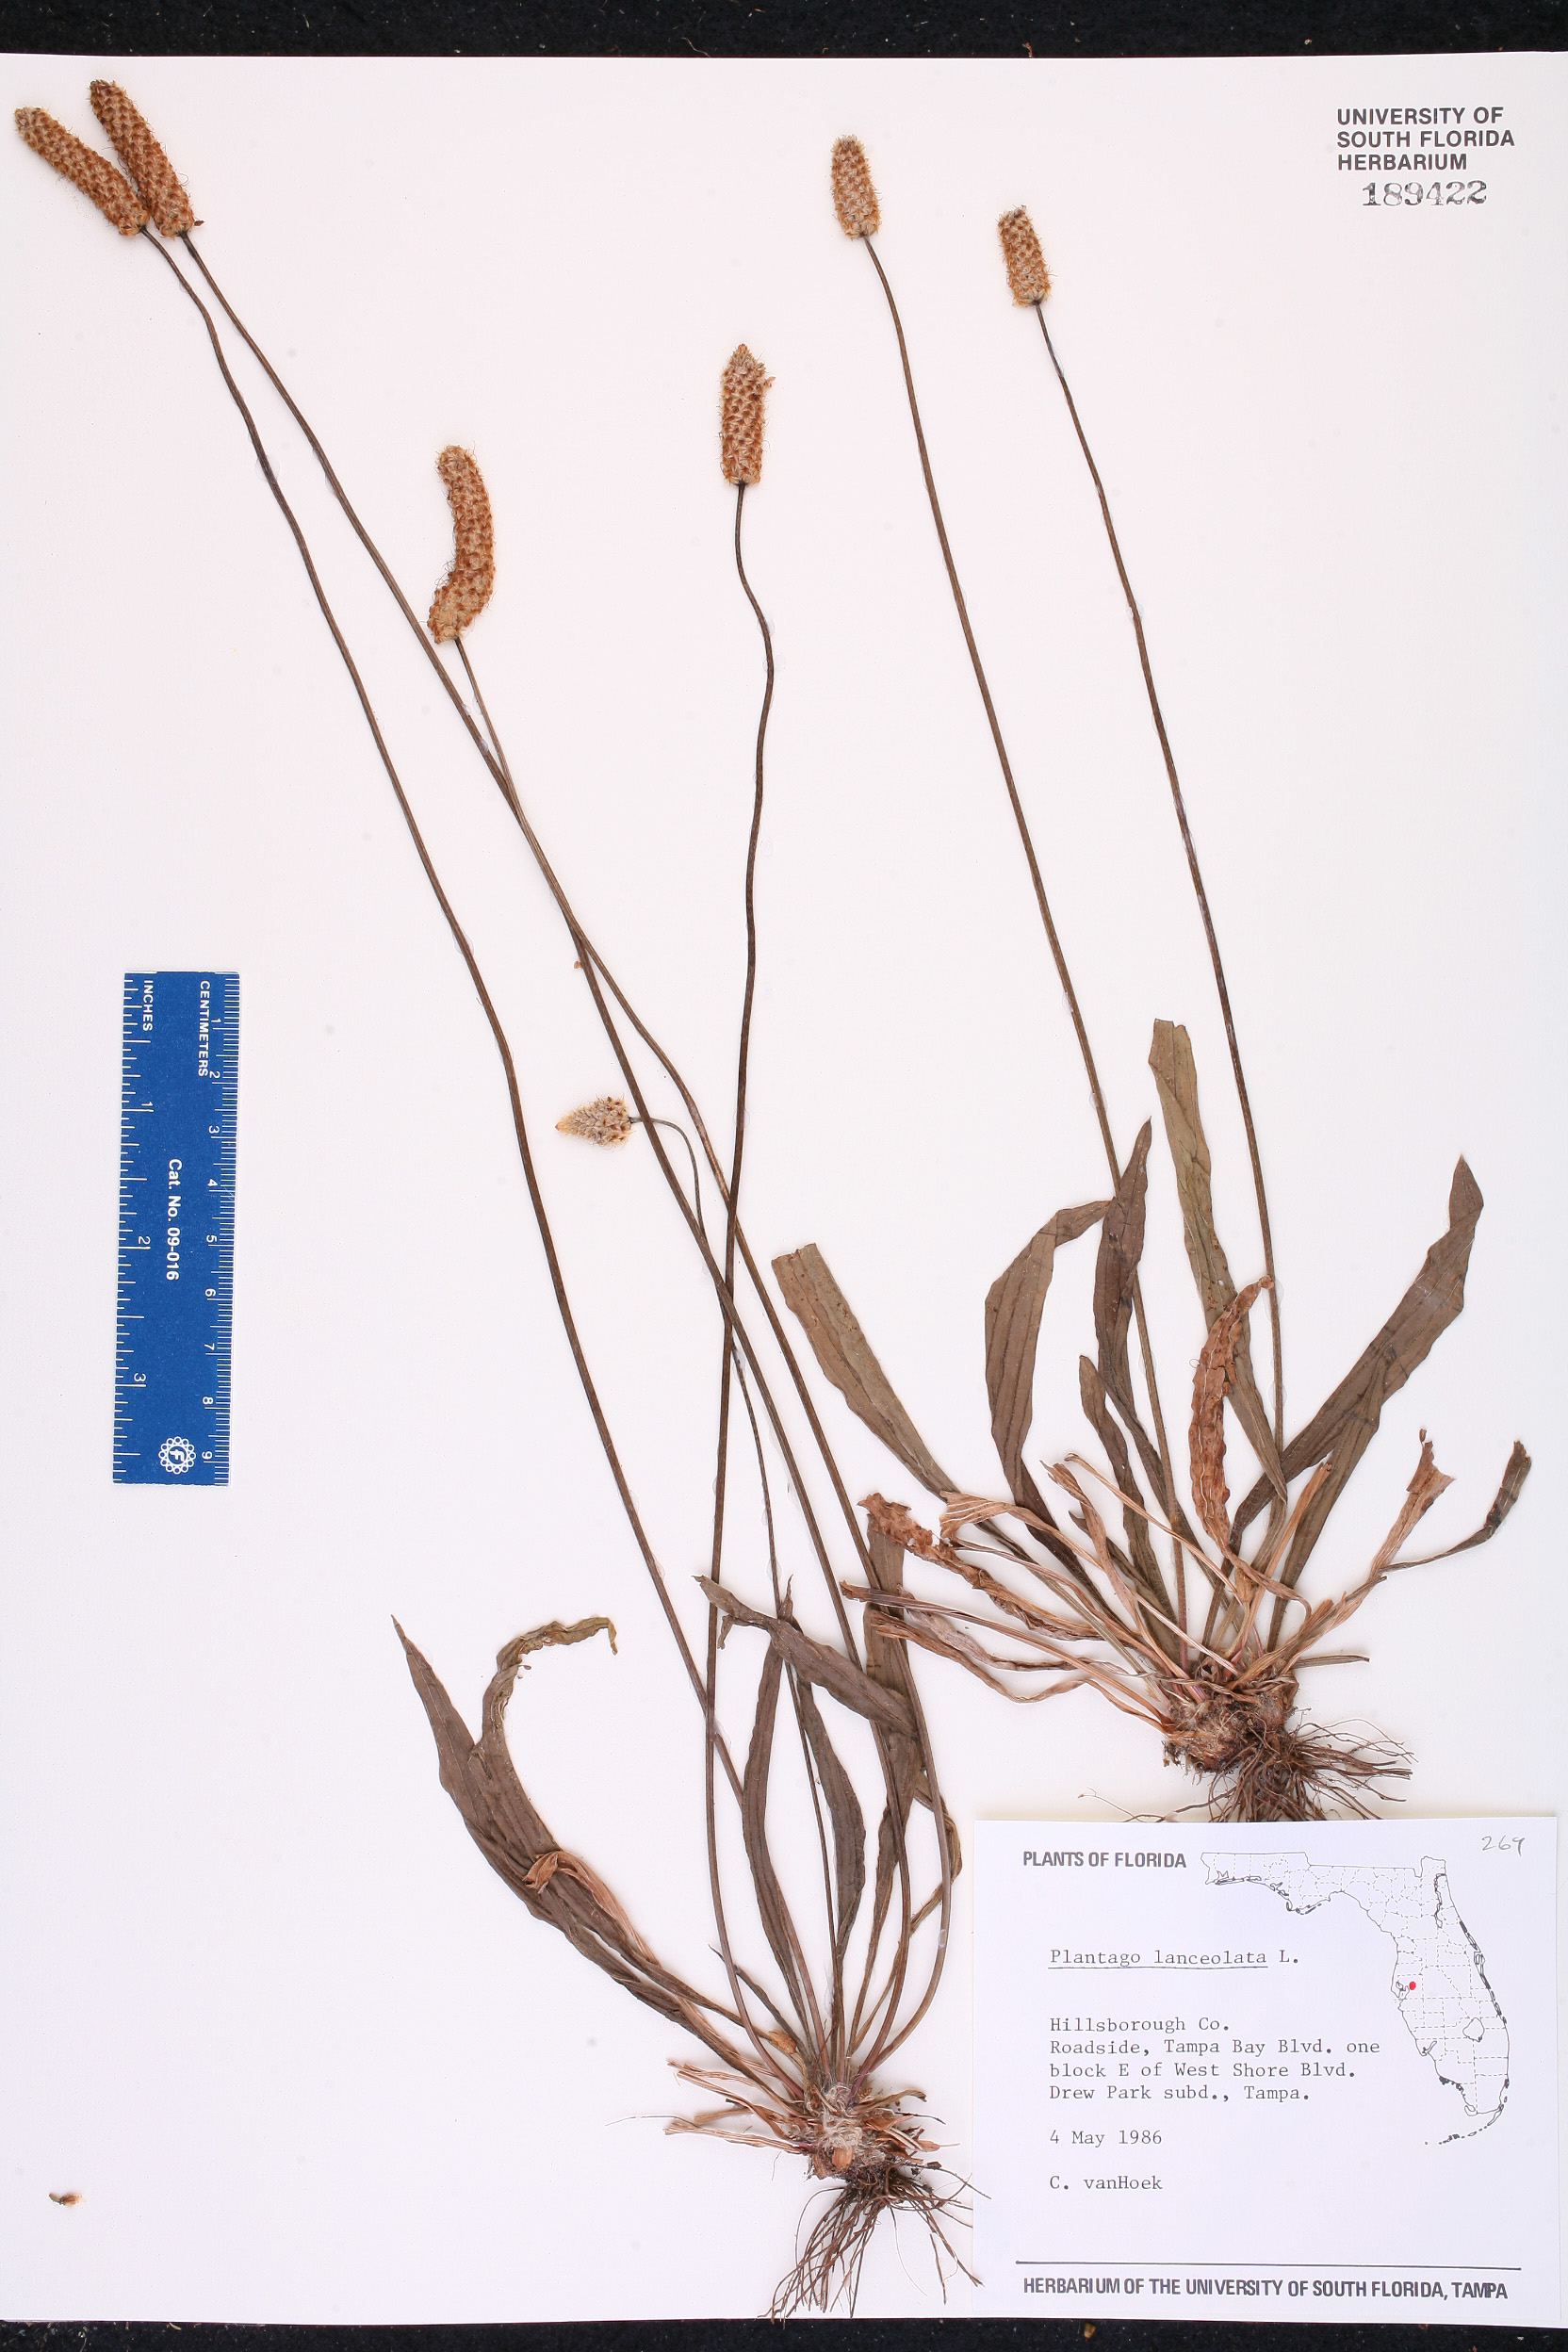buckhorn plantain: (17, 94, 966, 2128), (795, 143, 1543, 1795)
